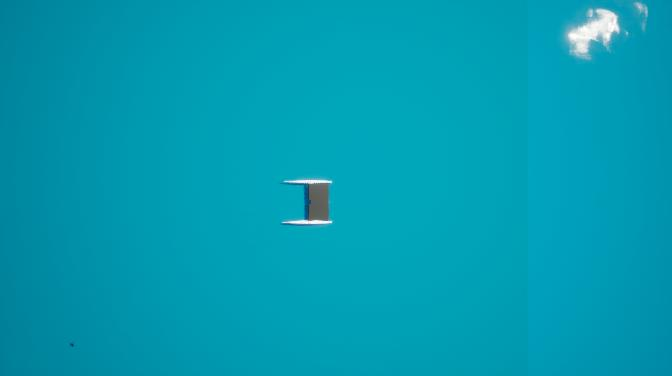boat: (281, 176, 335, 230)
drone: (68, 341, 74, 351)
land_base: (309, 184, 328, 219)
light_reflex: (553, 1, 654, 67)
